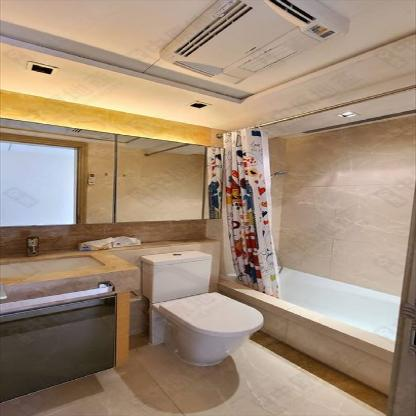Bathtub: (222, 264, 402, 399)
Faucet: (21, 235, 48, 256)
Toilet: (142, 249, 266, 365)
Toilet Sink: (0, 254, 102, 278)
